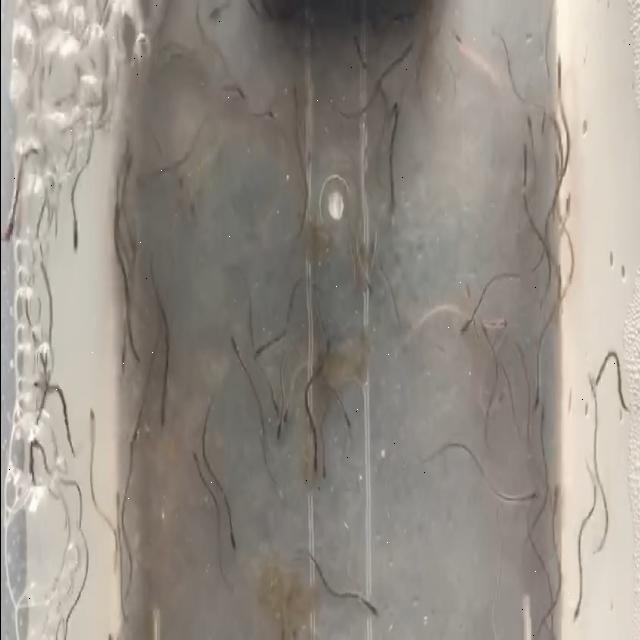active_glass_eel: (520, 543, 542, 588), (534, 270, 556, 314), (132, 398, 150, 446), (60, 360, 76, 414), (530, 374, 550, 416), (317, 558, 331, 616), (231, 318, 251, 356), (156, 398, 178, 431), (265, 400, 282, 440), (78, 438, 96, 475), (276, 140, 294, 176), (498, 492, 519, 522), (498, 278, 520, 306), (110, 228, 125, 268), (524, 223, 546, 250), (498, 313, 519, 341), (297, 443, 318, 471), (384, 92, 402, 124), (140, 146, 164, 170), (320, 446, 332, 492), (422, 320, 440, 350), (497, 49, 517, 76), (146, 292, 166, 318), (564, 600, 584, 626), (586, 495, 602, 527), (286, 126, 308, 148), (542, 502, 558, 532), (182, 474, 200, 500), (113, 552, 131, 576), (543, 581, 556, 613), (477, 58, 502, 74), (494, 420, 507, 450), (290, 294, 301, 328), (523, 428, 535, 458), (227, 524, 239, 554), (285, 406, 295, 438), (235, 360, 251, 378), (201, 472, 215, 491), (306, 250, 317, 274), (566, 302, 576, 326)
